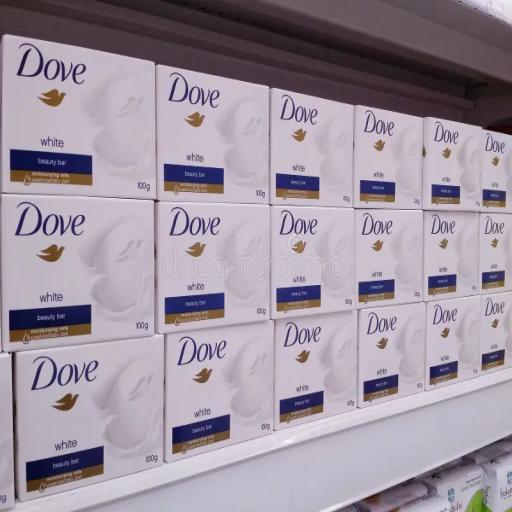Dove`1: (4, 337, 183, 500), (3, 30, 159, 198), (2, 197, 157, 351), (165, 325, 277, 465), (160, 63, 269, 204), (158, 208, 274, 336), (269, 89, 365, 209), (275, 313, 359, 435), (275, 204, 359, 320), (355, 203, 430, 307), (356, 102, 424, 212), (362, 302, 426, 412), (422, 118, 486, 215), (426, 296, 483, 393), (423, 210, 481, 304), (479, 211, 512, 300), (482, 133, 512, 214), (483, 294, 511, 372)
